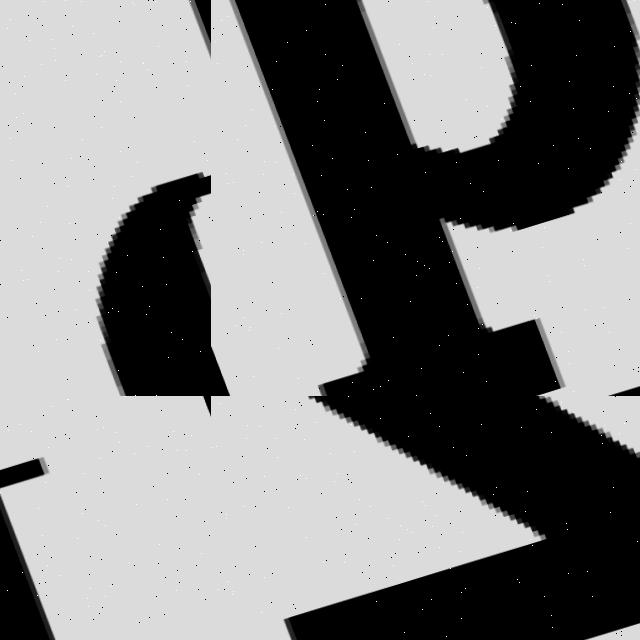B: (93, 170, 211, 396)
F: (0, 396, 169, 640)
Q: (211, 0, 640, 396)
Z: (211, 396, 640, 640)
